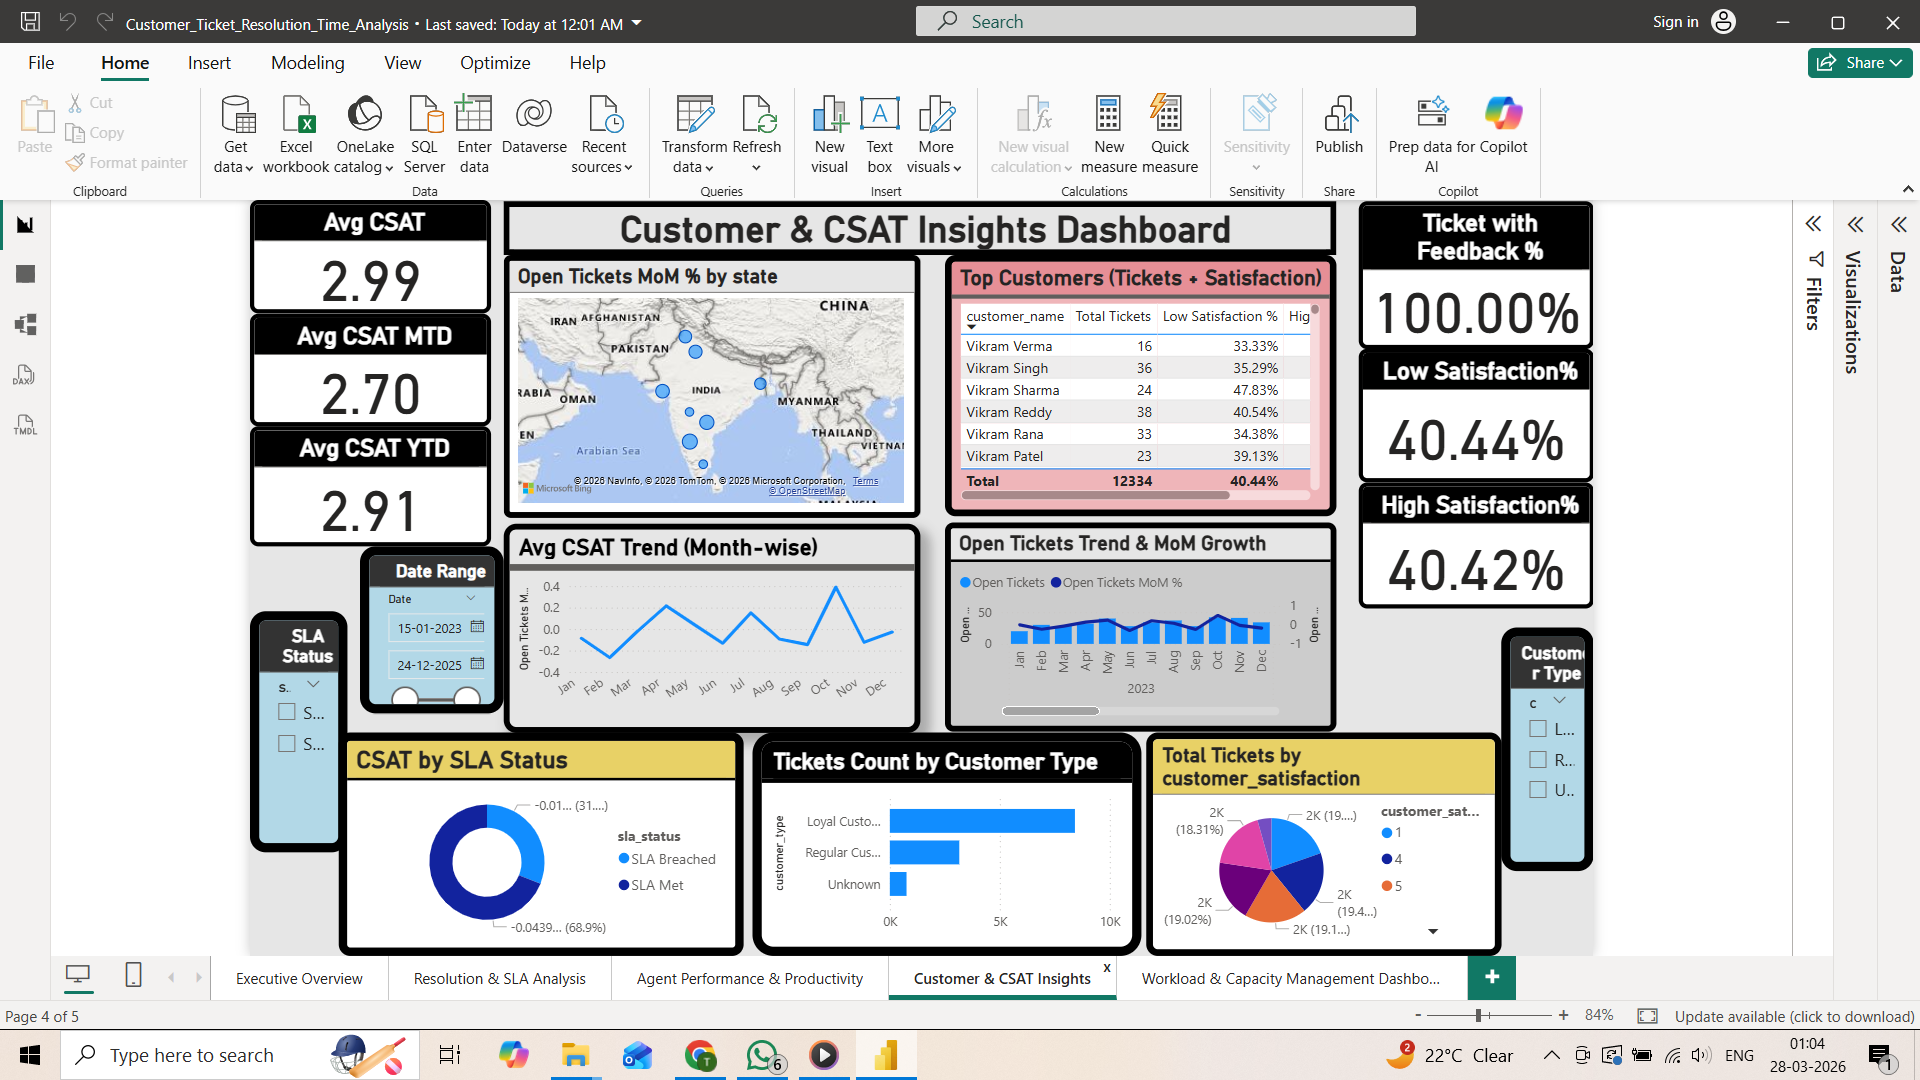

What the dashboard file says about the page in this screenshot:
{"tool":"powerbi","page":{"name":"Customer & CSAT Insights ","canvas":[1280,720],"ordinal":3},"visuals":[{"type":"textbox","title":"Customer & CSAT Insights Dashboard","box":[241.7,1.2,792.9,51.2],"z":0},{"type":"slicer","title":"Date Range","fields":{"Values":["DateTable.Date"]},"box":[104.8,329.8,136.9,159.5],"z":1000},{"type":"slicer","title":"Customer Type","fields":{"Values":["customers.customer_type"]},"box":[1191.7,407.1,88.1,232.1],"z":2000},{"type":"slicer","title":"SLA Status","fields":{"Values":["tickets.sla_status"]},"box":[0,391.7,92.9,229.8],"z":3000},{"type":"card","title":"Avg CSAT","fields":{"Values":["all_measures.Avg CSAT"]},"box":[0,0,229.8,108.3],"z":4000},{"type":"card","title":"Avg CSAT MTD","fields":{"Values":["all_measures.Avgs CSAT MTD"]},"box":[0,108.3,229.8,107.1],"z":5000},{"type":"card","title":"Avg CSAT YTD","fields":{"Values":["all_measures.Avgs CSAT YTD"]},"box":[0,215.5,229.8,114.3],"z":6000},{"type":"card","title":"High Satisfaction%","fields":{"Values":["all_measures.High Satisfactions %"]},"box":[1056,269,223.8,120.2],"z":7000},{"type":"card","title":"Low Satisfaction%","fields":{"Values":["all_measures.Low Satisfactions %"]},"box":[1056,141.7,223.8,127.4],"z":8000},{"type":"card","title":"Ticket with Feedback %","fields":{"Values":["all_measures.Tickets With Feedback %"]},"box":[1056,1.2,223.8,140.5],"z":9000},{"type":"lineChart","title":"Avg CSAT Trend (Month-wise)","fields":{"Category":["DateTable.MonthName"],"Y":["all_measures.Avg CSAT"]},"box":[241.7,308.3,396.4,198.8],"z":10000},{"type":"donutChart","title":"CSAT by SLA Status","fields":{"Category":["tickets.sla_status"],"Y":["all_measures.Avg CSAT"]},"box":[84.5,507.1,385.7,213.1],"z":11000},{"type":"clusteredBarChart","title":"Tickets Count by Customer Type","fields":{"Category":["customers.customer_type"],"Y":["all_measures.Total Tickets"]},"box":[478.6,507.1,370.2,213.1],"z":12000},{"type":"map","fields":{"Category":["customers.state"],"Size":["all_measures.Avg CSAT"]},"box":[241.7,52.4,396.4,250],"z":13000},{"type":"pieChart","fields":{"Category":["tickets.customer_satisfaction"],"Y":["all_measures.Total Tickets"]},"box":[853.6,507.1,338.1,213.1],"z":14000},{"type":"tableEx","title":"Top Customers (Tickets + Satisfaction)","fields":{"Values":["customers.customer_name","all_measures.Total Tickets","all_measures.Low Satisfactions %","all_measures.High Satisfactions %"]},"box":[661.9,52.4,372.6,248.8],"z":15000},{"type":"lineClusteredColumnComboChart","title":"Open Tickets Trend & MoM Growth","fields":{"Category":["DateTable.Date.Variation.Date Hierarchy.Year","DateTable.MonthName"],"Y":["all_measures.Open Tickets"],"Y2":["all_measures.Open Tickets MoM %"]},"box":[661.9,307.1,372.6,198.8],"z":16000}]}

Visuals, with their boxes on the page's 1280x720 design canvas (x1, y1, x2, y2). These are canvas units, not pixel positions in the 1920x1080 screenshot, which may show the page scaled, cropped or inside an application window:
"Customer & CSAT Insights Dashboard" textbox: <box>242,1,1035,52</box>
"Date Range" slicer: <box>105,330,242,489</box>
"Customer Type" slicer: <box>1192,407,1280,639</box>
"SLA Status" slicer: <box>0,392,93,622</box>
"Avg CSAT" card: <box>0,0,230,108</box>
"Avg CSAT MTD" card: <box>0,108,230,215</box>
"Avg CSAT YTD" card: <box>0,216,230,330</box>
"High Satisfaction%" card: <box>1056,269,1280,389</box>
"Low Satisfaction%" card: <box>1056,142,1280,269</box>
"Ticket with Feedback %" card: <box>1056,1,1280,142</box>
"Avg CSAT Trend (Month-wise)" lineChart: <box>242,308,638,507</box>
"CSAT by SLA Status" donutChart: <box>84,507,470,720</box>
"Tickets Count by Customer Type" clusteredBarChart: <box>479,507,849,720</box>
map - customers.state x all_measures.Avg CSAT: <box>242,52,638,302</box>
pieChart - tickets.customer_satisfaction x all_measures.Total Tickets: <box>854,507,1192,720</box>
"Top Customers (Tickets + Satisfaction)" tableEx: <box>662,52,1034,301</box>
"Open Tickets Trend & MoM Growth" lineClusteredColumnComboChart: <box>662,307,1034,506</box>
